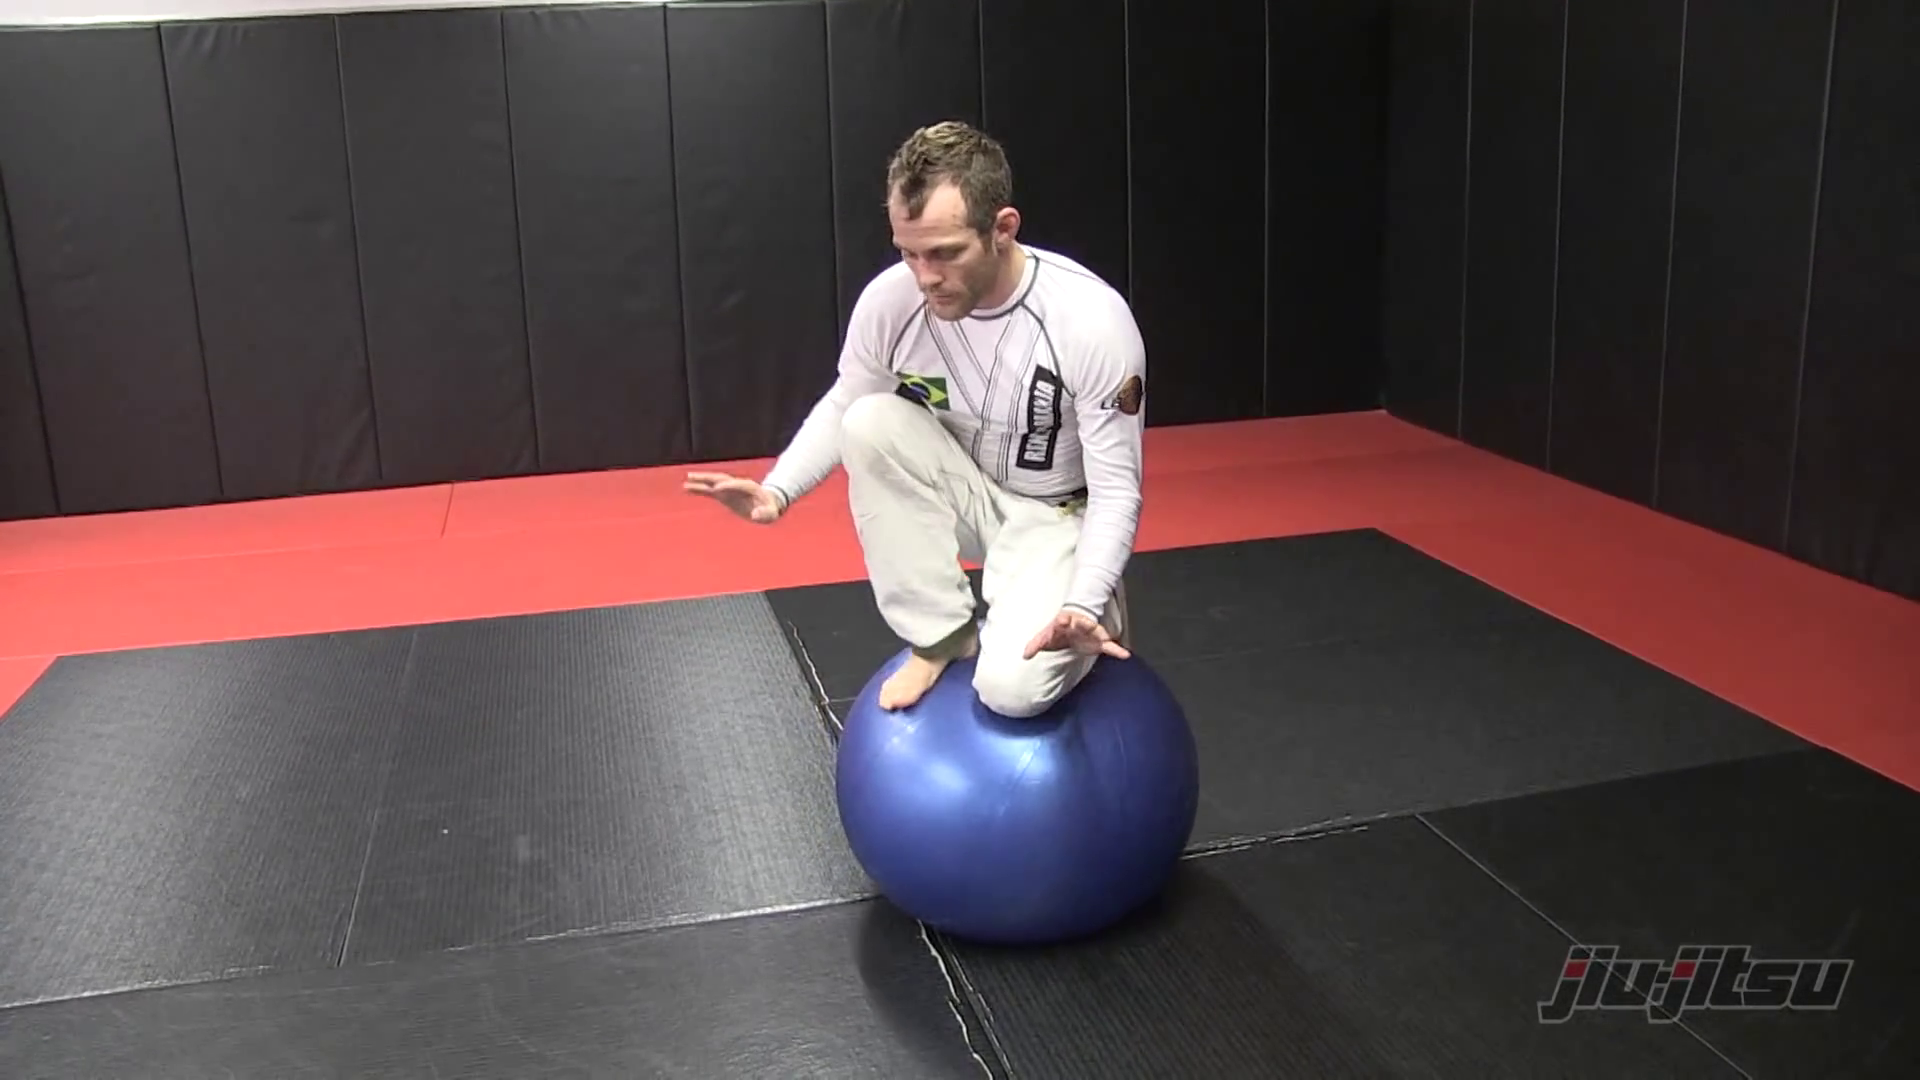yogaball: (816, 605, 1216, 965)
